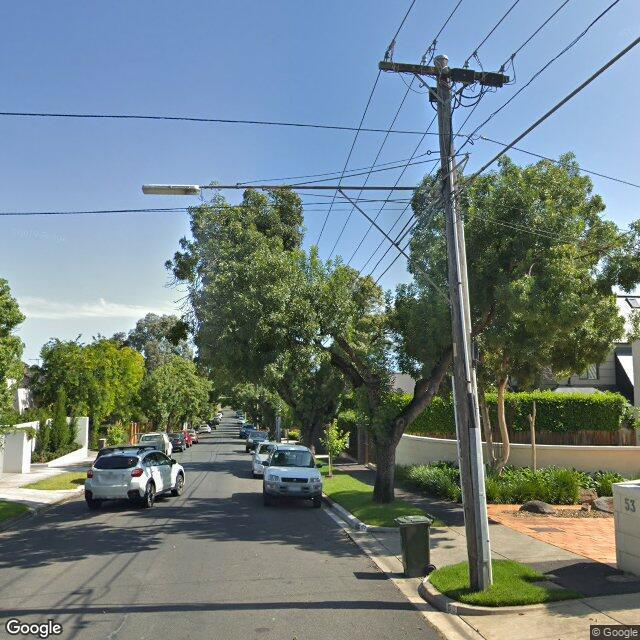crossarm: (378, 39, 517, 103)
streetlight: (142, 182, 443, 196)
timber-pole: (432, 54, 492, 589)
